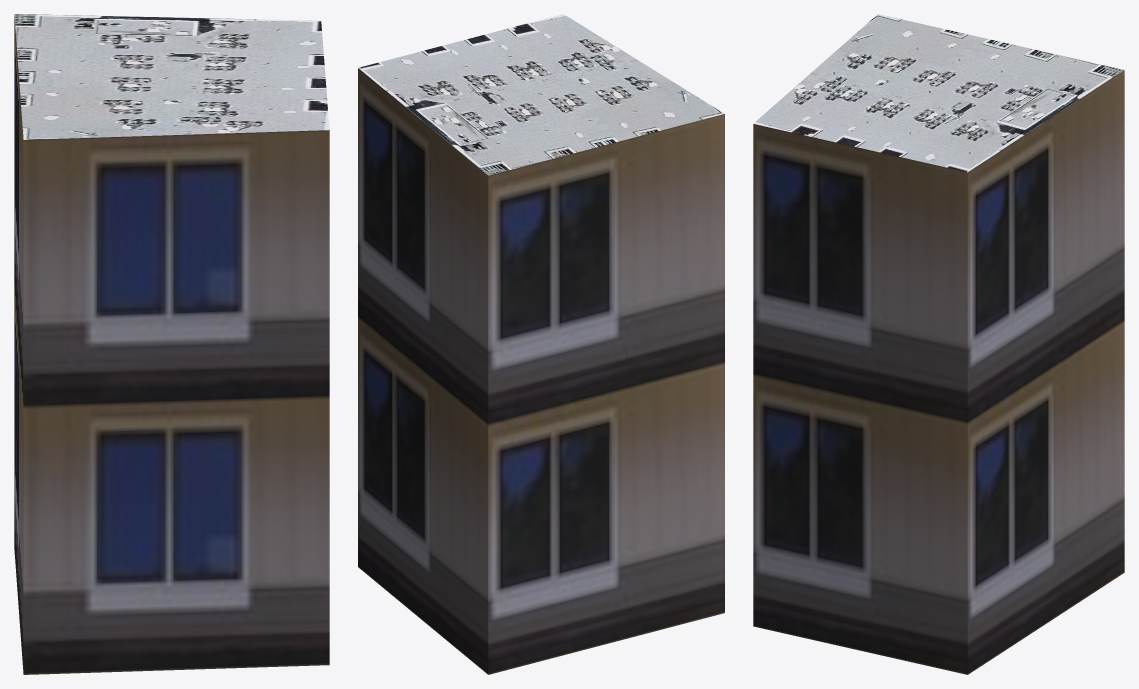
File: ResTex__4565.fbx
3 renders of one model, left to right at view 1: azimuth 30°, elevation 25°; view 2: azimuth 150°, elevation 25°; view 3: azimuth 270°, elevation 25°, orthographic. The views are drawn at different scales.
Visible parts, largest first — view 1: CityEngineMaterial_5_m, CityEngineMaterial_4_m; view 2: CityEngineMaterial_5_m, CityEngineMaterial_4_m; view 3: CityEngineMaterial_5_m, CityEngineMaterial_4_m.
Part boxes in pixels (<box>): CityEngineMaterial_5_m: <box>14,15,329,674</box>; CityEngineMaterial_4_m: <box>14,14,329,139</box>; CityEngineMaterial_5_m: <box>358,68,724,674</box>; CityEngineMaterial_4_m: <box>358,14,724,175</box>; CityEngineMaterial_5_m: <box>753,70,1124,674</box>; CityEngineMaterial_4_m: <box>753,14,1124,172</box>.
Size of the model in its own units: 4.05 by 6 by 4.02.
2 materials, 2 textured.
